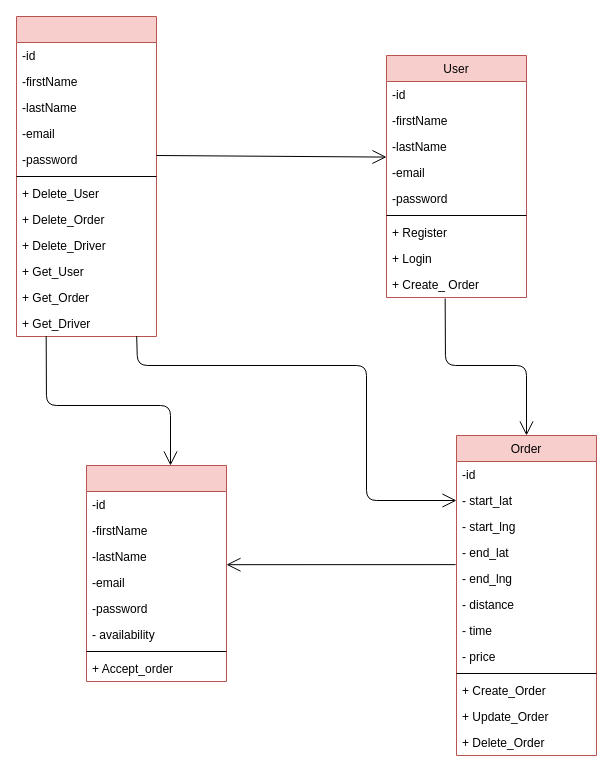
Image size: 613x772. Some labels were removed from this diagram. The box of each missing label's shape, as (x1, y1, x2, y2) in pixels:
Admin: (16, 16, 156, 336)
Driver: (86, 464, 226, 682)
